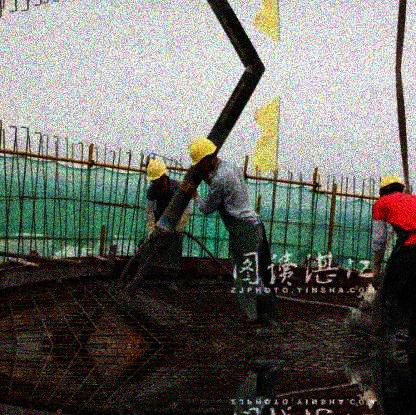helmet: (189, 137, 217, 174), (147, 159, 167, 189), (379, 176, 406, 197)
